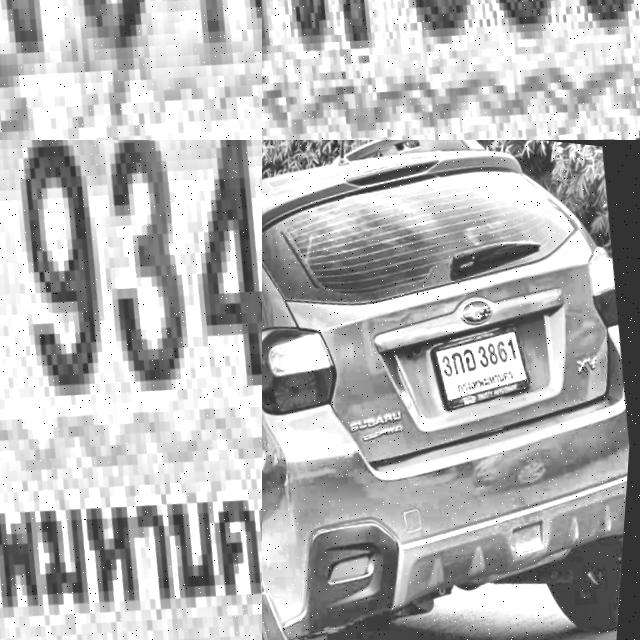license-plate: (0, 140, 262, 640), (262, 0, 640, 140), (0, 0, 262, 140), (425, 304, 542, 413)
